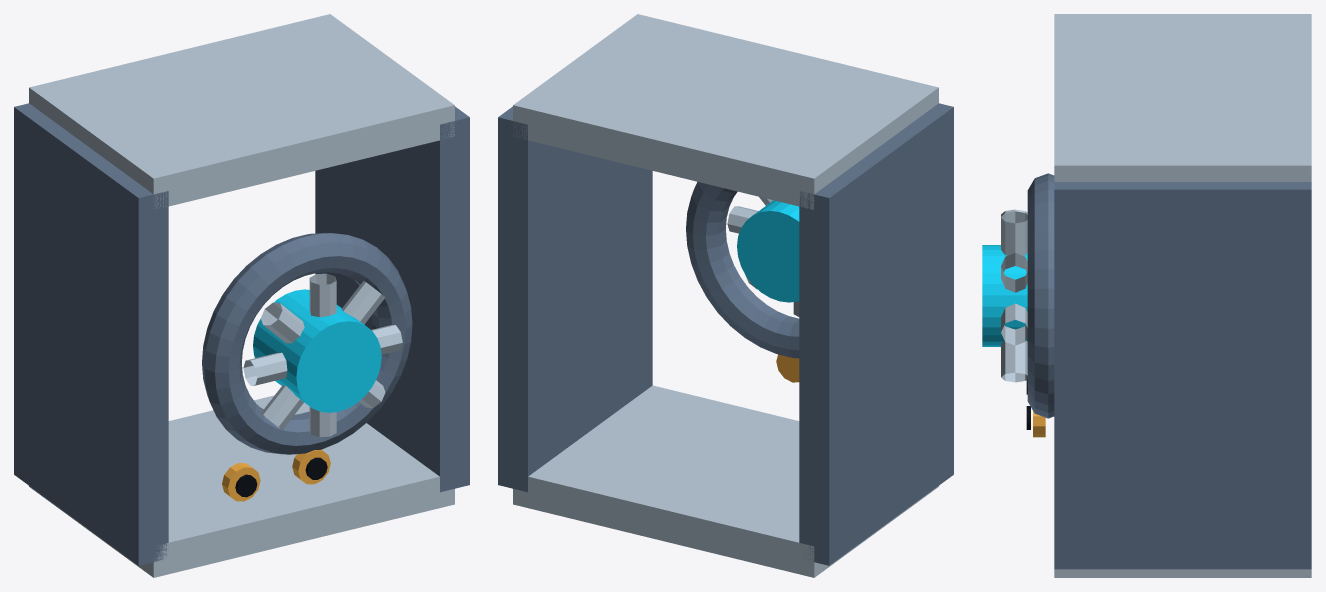
The model's file is 76_L90_ThermalControlPumpRack.fbx.
The picture shows the model from 3 angles, left to right: view 1: azimuth 30°, elevation 25°; view 2: azimuth 150°, elevation 25°; view 3: azimuth 270°, elevation 25°; orthographic projection. The views are drawn at different scales.
Visible parts, largest first — view 1: L90_ThermalControlPumpRack, L90_ThermalControlPumpRack_Part_0002, L90_ThermalControlPumpRack_Part_0003, L90_ThermalControlPumpRack_Part_0004, L90_ThermalControlPumpRack_Part_0006; view 2: L90_ThermalControlPumpRack, L90_ThermalControlPumpRack_Part_0002, L90_ThermalControlPumpRack_Part_0003; view 3: L90_ThermalControlPumpRack, L90_ThermalControlPumpRack_Part_0003, L90_ThermalControlPumpRack_Part_0002.
Boxes of the visible parts, x1,y1,x2,y2 form: L90_ThermalControlPumpRack: (14, 14, 469, 577); L90_ThermalControlPumpRack_Part_0002: (253, 289, 381, 412); L90_ThermalControlPumpRack_Part_0003: (243, 273, 402, 437); L90_ThermalControlPumpRack_Part_0004: (222, 463, 260, 501); L90_ThermalControlPumpRack_Part_0006: (292, 449, 330, 484); L90_ThermalControlPumpRack: (498, 14, 953, 577); L90_ThermalControlPumpRack_Part_0002: (737, 200, 799, 302); L90_ThermalControlPumpRack_Part_0003: (727, 197, 799, 316); L90_ThermalControlPumpRack: (1027, 14, 1311, 577); L90_ThermalControlPumpRack_Part_0003: (1001, 209, 1027, 382); L90_ThermalControlPumpRack_Part_0002: (982, 245, 1027, 346).
Size of the model in its own units: 132 by 152 by 110.
